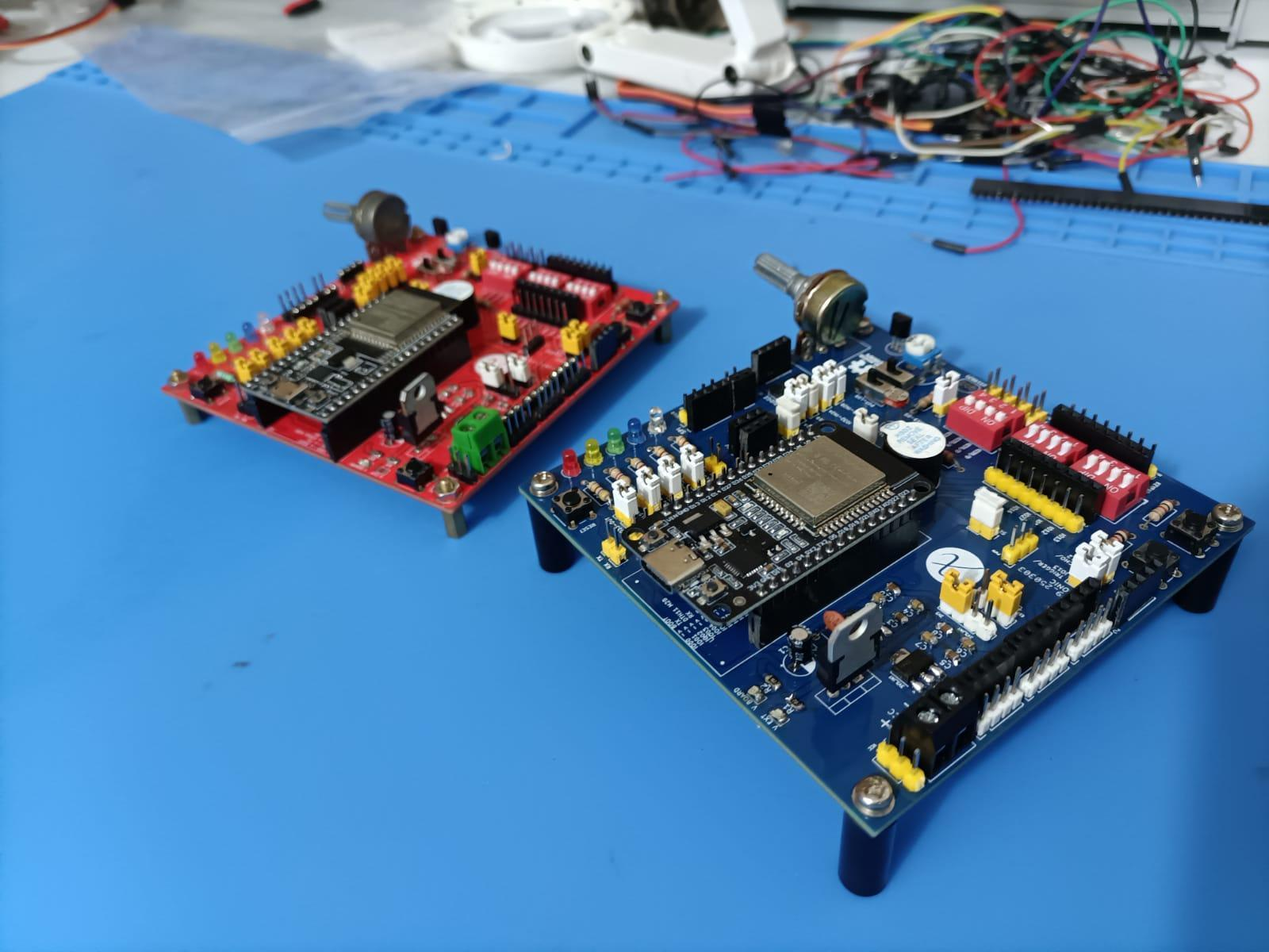LED: (646, 403, 670, 437), (603, 426, 626, 459), (557, 449, 584, 477), (581, 436, 604, 467), (237, 317, 257, 345), (626, 415, 645, 444), (221, 329, 242, 353), (208, 341, 226, 367), (187, 351, 210, 370), (255, 308, 272, 331), (943, 451, 959, 467)
Resistencia: (1139, 514, 1181, 529), (628, 288, 645, 321), (907, 403, 935, 418), (1106, 536, 1132, 551), (474, 300, 492, 320)
